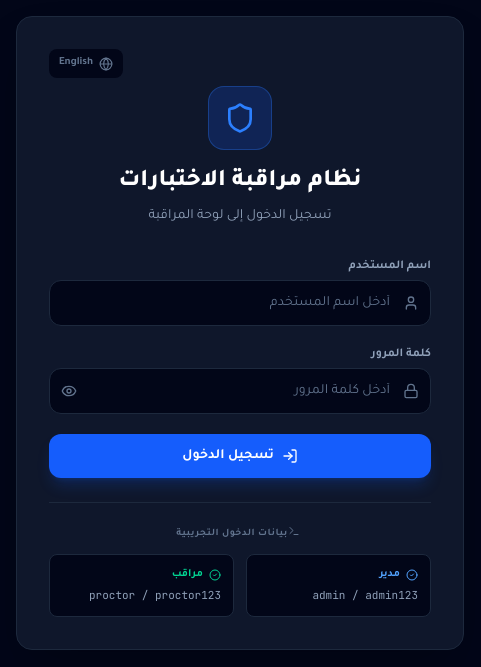
Test: LoginPage › shows English text when language is toggled
Click the button "English": (86, 64) [49,49,123,78]
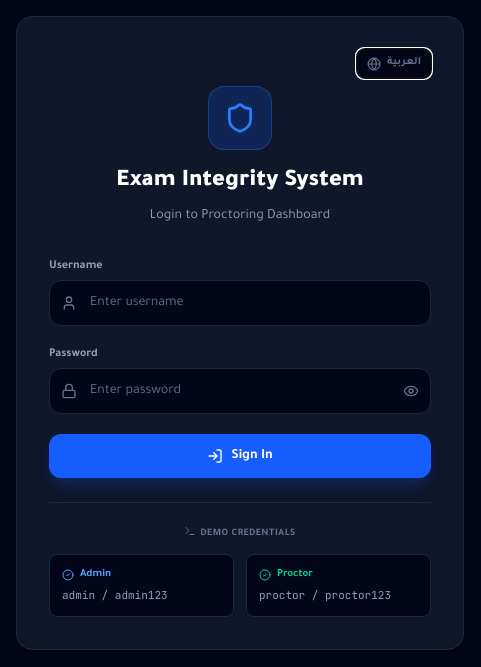
expect the text "Username" is shown: met, box [49,260,103,272]
expect the text "Password" is shown: met, box [49,348,98,360]
